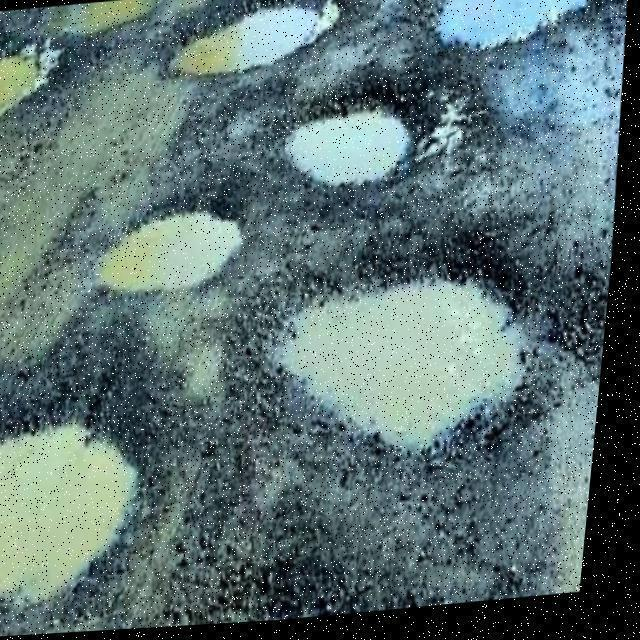Pothole: (275, 279, 551, 458), (0, 419, 156, 607), (171, 0, 342, 77), (98, 207, 250, 293), (290, 115, 419, 189), (433, 0, 611, 50), (0, 37, 61, 113), (47, 0, 163, 35)
